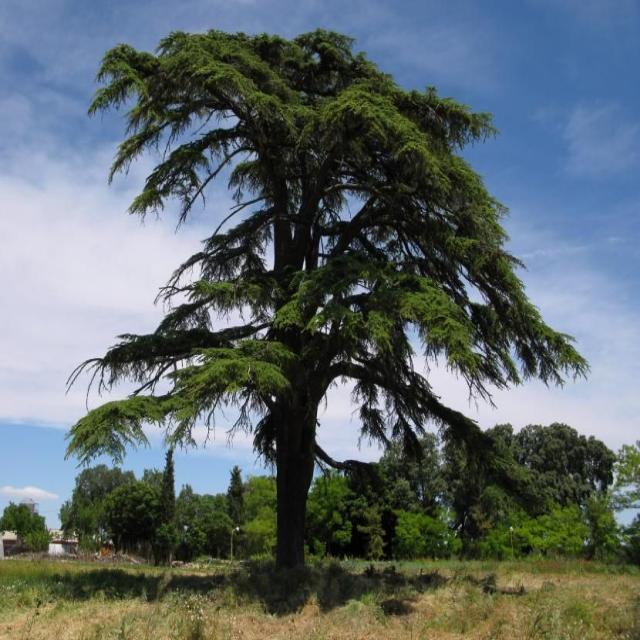cedro: (73, 19, 598, 606)
